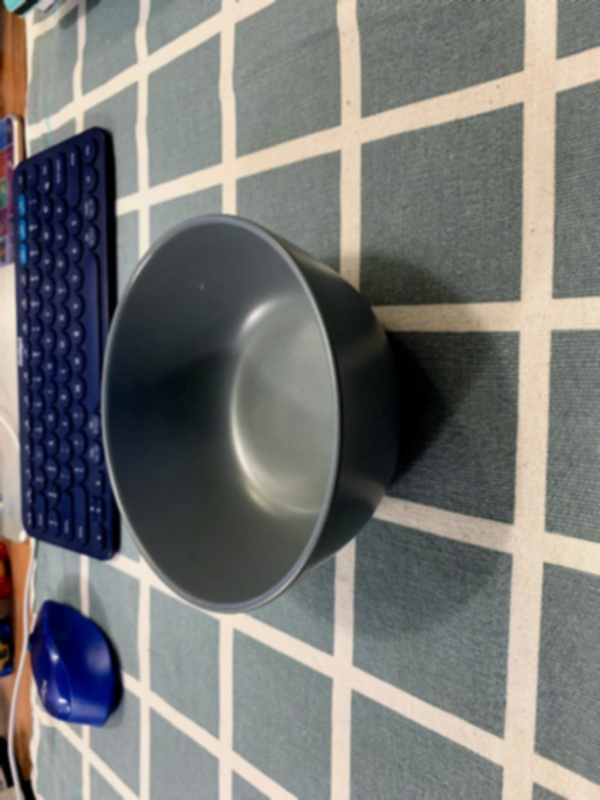bowl_big: (97, 208, 409, 623)
